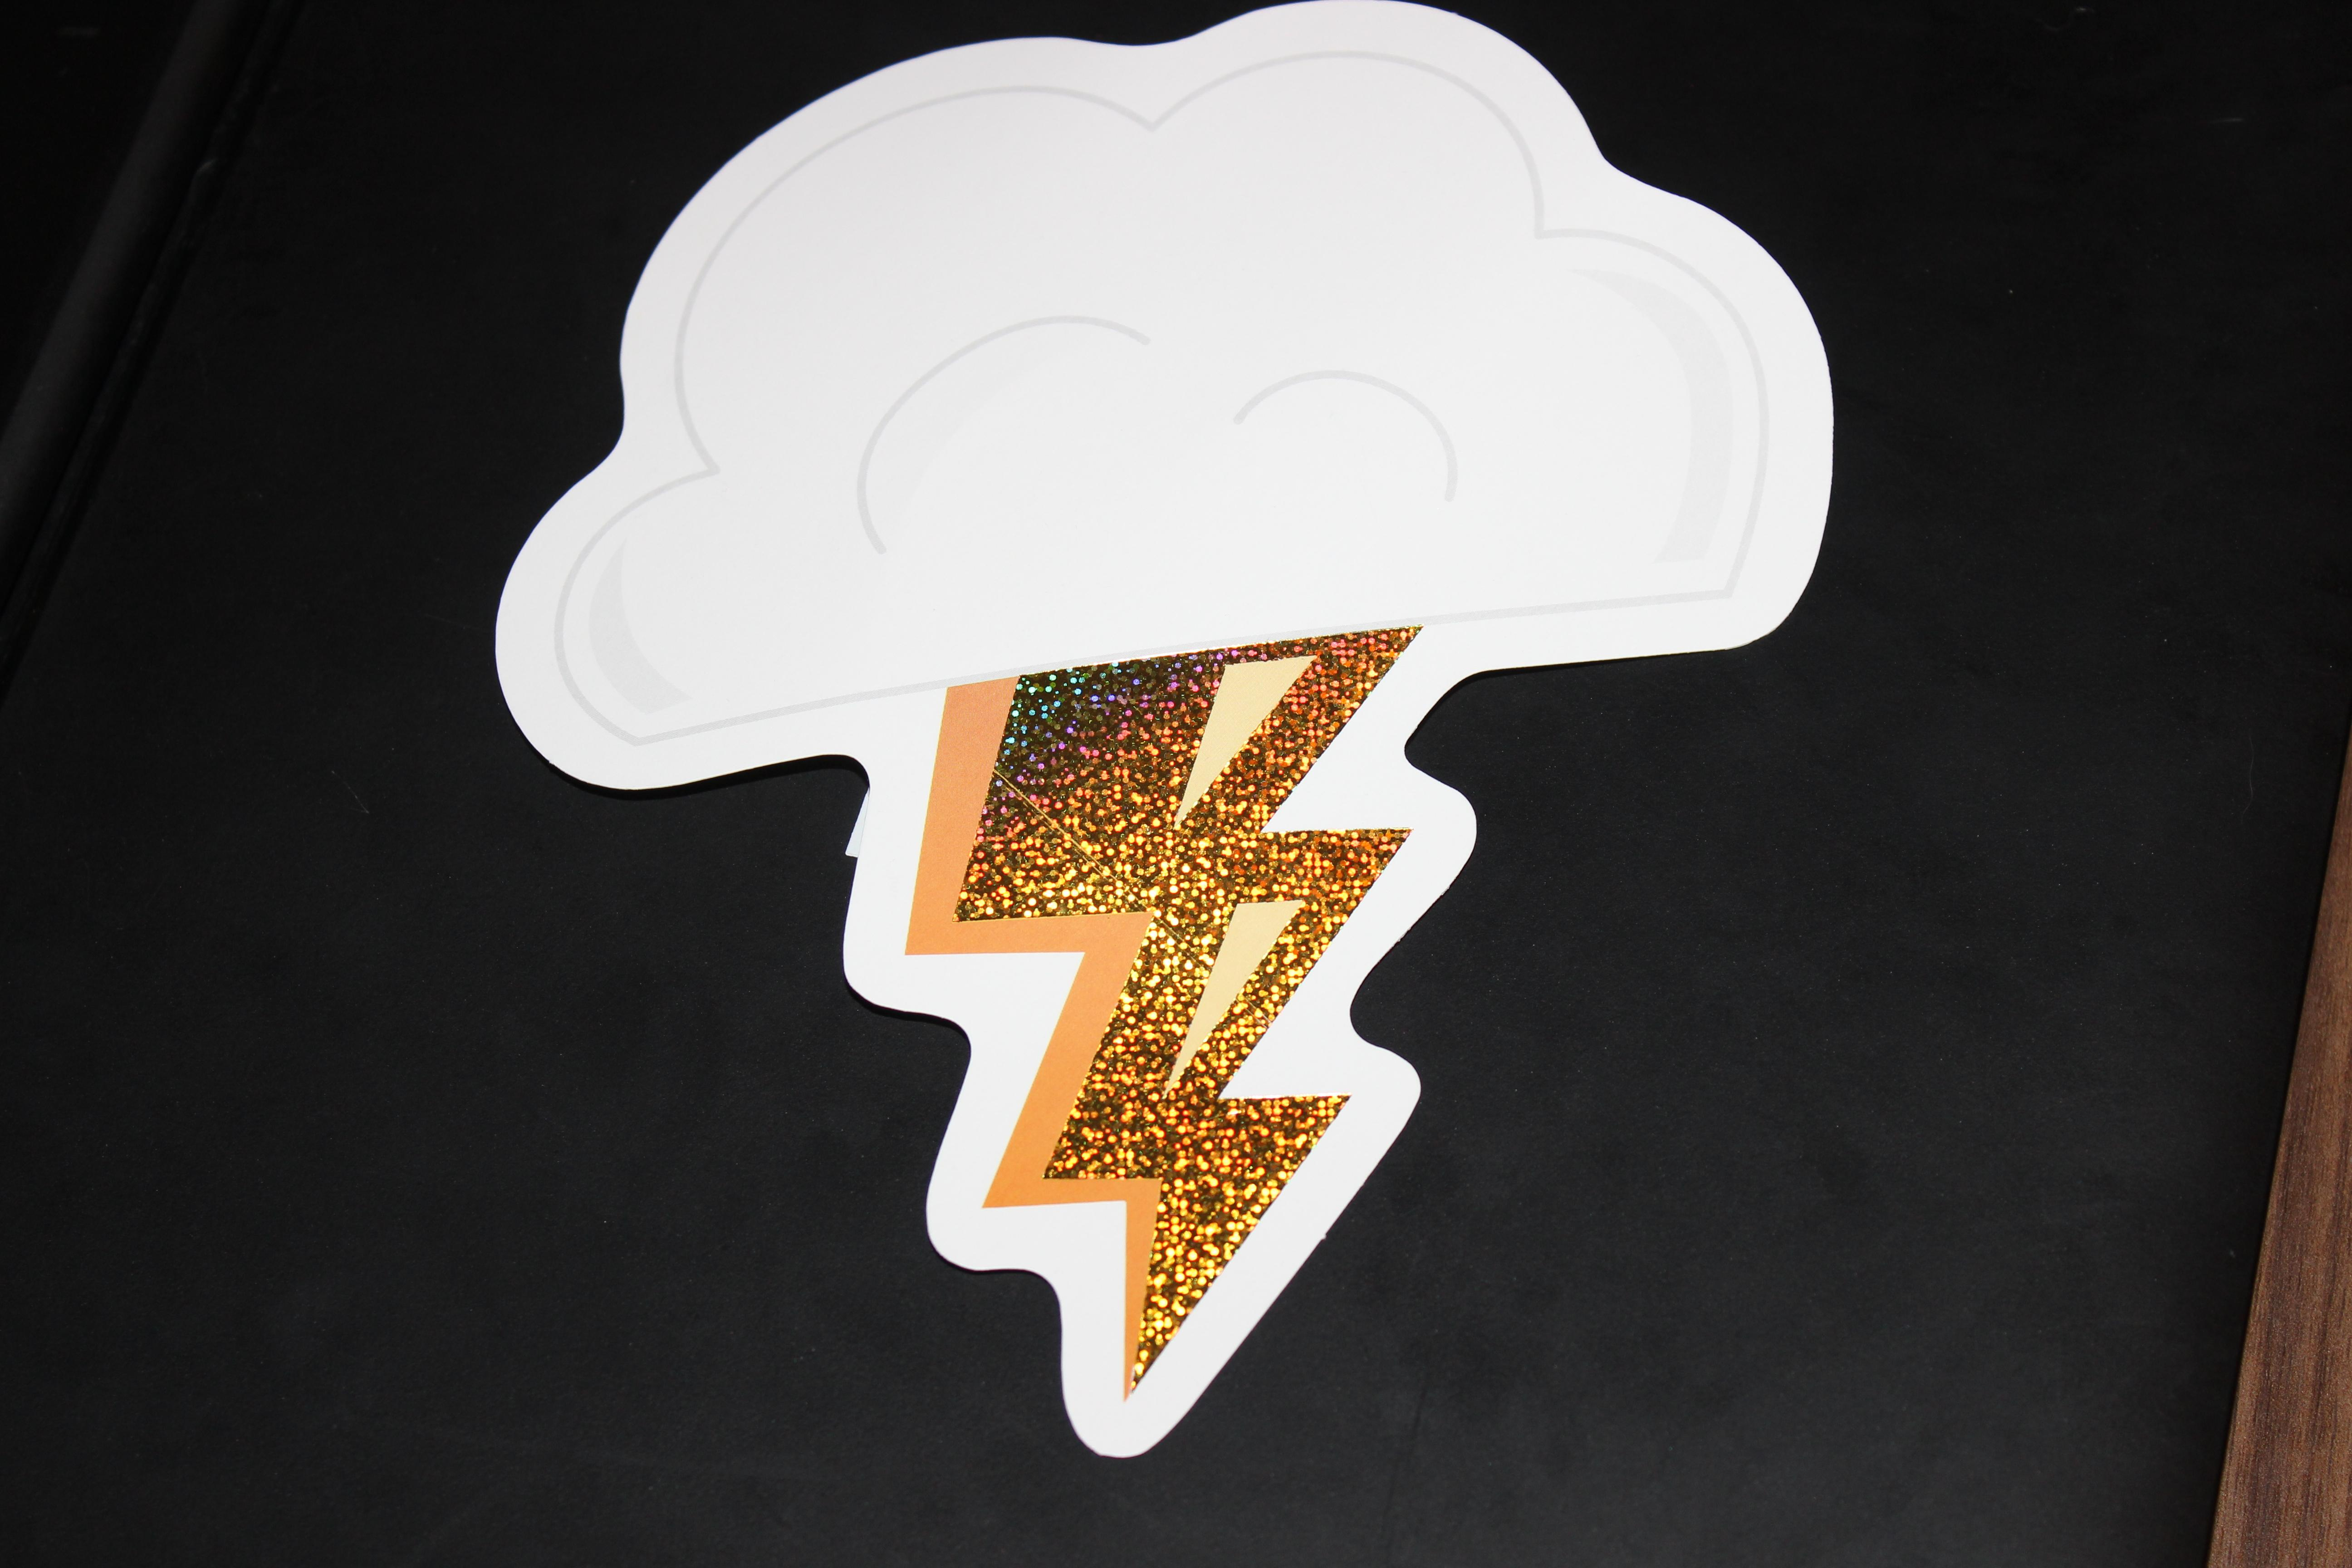cloudSign: (446, 0, 1915, 1481)
